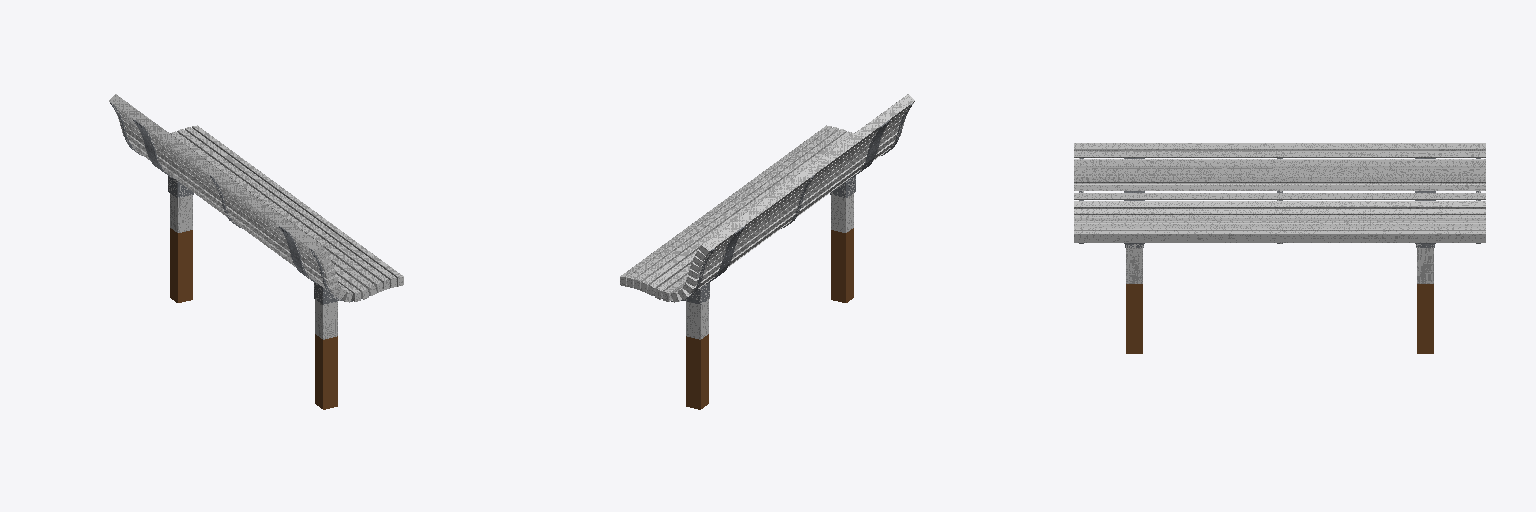
3 renders of one model, left to right at view 1: azimuth 30°, elevation 25°; view 2: azimuth 150°, elevation 25°; view 3: azimuth 270°, elevation 25°, orthographic.
Visible parts, largest first — view 1: mesh6.002_mesh6-geometry, mesh9.001_mesh9-geometry, mesh5.001_mesh5-geometry, mesh6.003_mesh6-geometry, mesh6.007_mesh6-geometry, mesh6.009_mesh6-geometry, mesh6.011_mesh6-geometry, mesh6.015_mesh6-geometry, mesh6.006_mesh6-geometry, mesh6.001_mesh6-geometry, mesh6.012_mesh6-geometry, mesh6.013_mesh6-geometry (+1 smaller); view 2: mesh6.002_mesh6-geometry, mesh9.001_mesh9-geometry, mesh5.001_mesh5-geometry, mesh6.003_mesh6-geometry, mesh6.007_mesh6-geometry, mesh6.009_mesh6-geometry, mesh6.011_mesh6-geometry, mesh6.015_mesh6-geometry, mesh6.006_mesh6-geometry, mesh6.001_mesh6-geometry, mesh6.012_mesh6-geometry, mesh6.013_mesh6-geometry (+1 smaller); view 3: mesh6.011_mesh6-geometry, mesh6.006_mesh6-geometry, mesh6.016_mesh6-geometry, mesh6.015_mesh6-geometry, mesh6.002_mesh6-geometry, mesh6.001_mesh6-geometry, mesh6.013_mesh6-geometry, mesh6.012_mesh6-geometry, mesh6.010_mesh6-geometry, mesh6.014_mesh6-geometry, mesh9.001_mesh9-geometry, mesh5.001_mesh5-geometry (+6 smaller).
Part boxes in pixels (bbox=[...]): mesh6.002_mesh6-geometry: bbox=[109, 94, 324, 255]; mesh9.001_mesh9-geometry: bbox=[170, 193, 192, 302]; mesh5.001_mesh5-geometry: bbox=[315, 299, 337, 409]; mesh6.003_mesh6-geometry: bbox=[177, 129, 389, 289]; mesh6.007_mesh6-geometry: bbox=[185, 127, 396, 287]; mesh6.009_mesh6-geometry: bbox=[170, 131, 383, 292]; mesh6.011_mesh6-geometry: bbox=[192, 125, 403, 286]; mesh6.015_mesh6-geometry: bbox=[122, 131, 337, 286]; mesh6.006_mesh6-geometry: bbox=[120, 123, 335, 278]; mesh6.001_mesh6-geometry: bbox=[118, 118, 333, 272]; mesh6.012_mesh6-geometry: bbox=[129, 140, 340, 293]; mesh6.013_mesh6-geometry: bbox=[115, 111, 331, 266]; mesh6.002_mesh6-geometry: bbox=[699, 94, 914, 255]; mesh9.001_mesh9-geometry: bbox=[686, 299, 708, 409]; mesh5.001_mesh5-geometry: bbox=[831, 193, 853, 302]; mesh6.003_mesh6-geometry: bbox=[634, 129, 846, 289]; mesh6.007_mesh6-geometry: bbox=[627, 127, 838, 287]; mesh6.009_mesh6-geometry: bbox=[640, 131, 853, 292]; mesh6.011_mesh6-geometry: bbox=[620, 125, 831, 286]; mesh6.015_mesh6-geometry: bbox=[686, 131, 901, 286]; mesh6.006_mesh6-geometry: bbox=[688, 123, 903, 278]; mesh6.001_mesh6-geometry: bbox=[690, 118, 905, 272]; mesh6.012_mesh6-geometry: bbox=[683, 140, 894, 293]; mesh6.013_mesh6-geometry: bbox=[692, 111, 908, 266]; mesh6.011_mesh6-geometry: bbox=[1074, 231, 1485, 242]; mesh6.006_mesh6-geometry: bbox=[1074, 174, 1485, 182]; mesh6.016_mesh6-geometry: bbox=[1074, 201, 1485, 208]; mesh6.015_mesh6-geometry: bbox=[1074, 183, 1485, 190]; mesh6.002_mesh6-geometry: bbox=[1074, 143, 1485, 150]; mesh6.001_mesh6-geometry: bbox=[1074, 166, 1485, 173]; mesh6.013_mesh6-geometry: bbox=[1074, 159, 1485, 165]; mesh6.012_mesh6-geometry: bbox=[1074, 193, 1485, 199]; mesh6.010_mesh6-geometry: bbox=[1074, 151, 1485, 157]; mesh6.014_mesh6-geometry: bbox=[1074, 209, 1485, 214]; mesh9.001_mesh9-geometry: bbox=[1417, 248, 1433, 353]; mesh5.001_mesh5-geometry: bbox=[1126, 248, 1142, 353].
Bounding box in the file's own units: 0.219 × 0.4434 × 0.8691.
Materials: 4 (1 with a texture image).